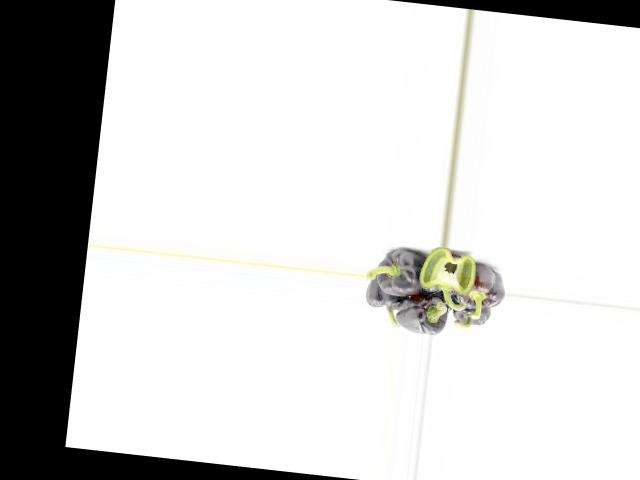bell_pepper: (445, 263, 506, 311)
